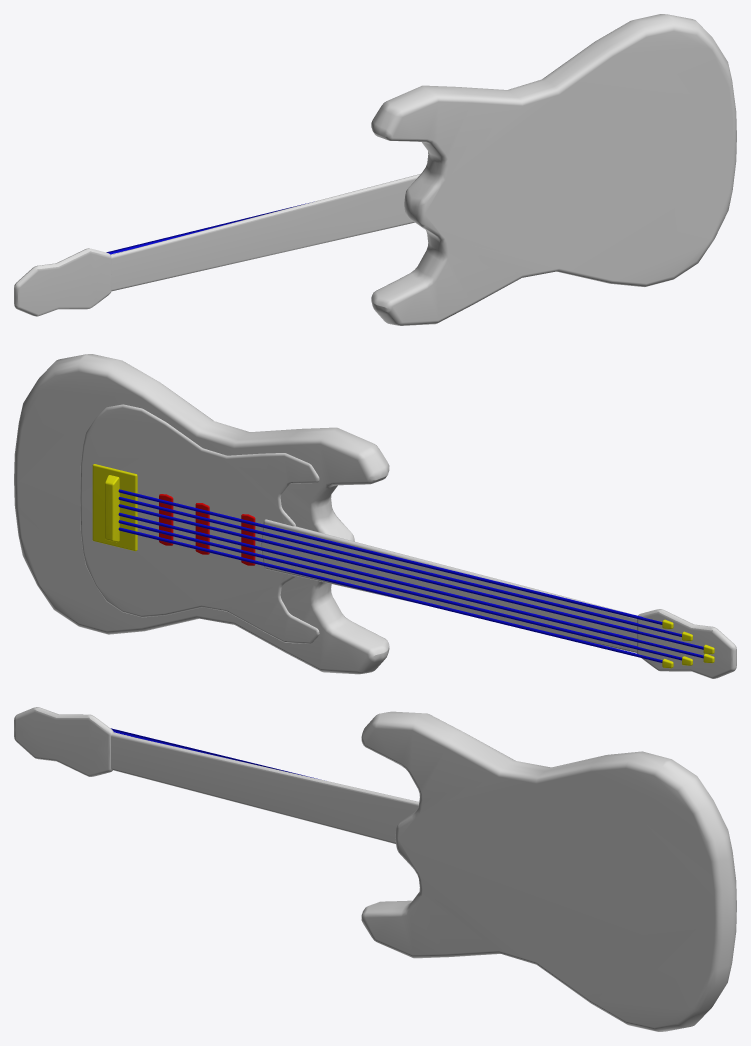
File: Shadow_guittar.fbx
The picture shows the model from 3 angles, top to bottom: view 1: azimuth 30°, elevation 25°; view 2: azimuth 150°, elevation 25°; view 3: azimuth 330°, elevation 25°; orthographic projection. The views are drawn at different scales.
Parts seen in each view (by area): view 1: Guittar_base, Cube.001, Cube.002; view 2: Guittar_base, Cube.004, Cube.003, Cube.001, Cube.002; view 3: Guittar_base, Cube.001, Cube.002, Cube.003.
Part boxes in pixels (x1,y1,x2,y2): Guittar_base: (371,14,736,325); Cube.001: (111,174,420,291); Cube.002: (14,248,111,316); Guittar_base: (14,354,389,674); Cube.004: (80,404,319,643); Cube.003: (92,464,714,668); Cube.001: (260,519,636,652); Cube.002: (637,609,736,678); Guittar_base: (361,711,736,1031); Cube.001: (111,733,419,843); Cube.002: (14,707,113,776); Cube.003: (111,728,317,778).
Bounding box in the file's own units: 14.11 × 233 × 82.39.
